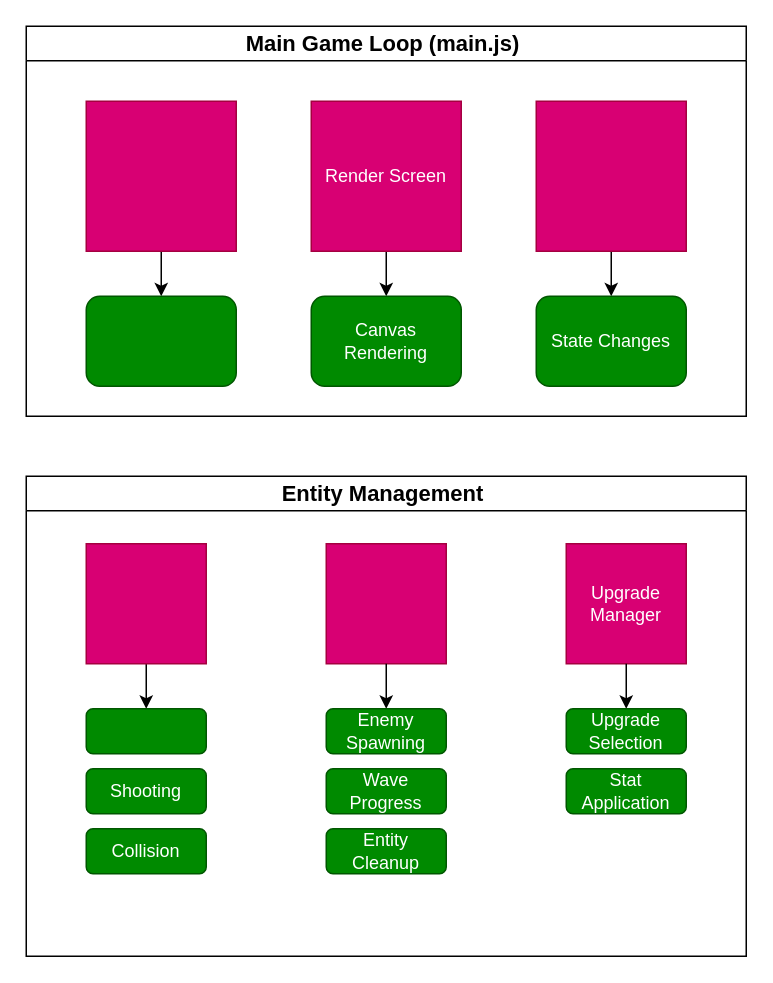
Some shapes in this 773 by 983 pixel diagram are drawn without their labels. The shapes that lost their labels are listed below. From the top down, each one's centre as x and y in pixels, then its label:
At pixel 160 175: "Input Manager".
At pixel 610 175: "Update Game Logiic".
At pixel 160 340: "Input Events".
At pixel 145 603: "Player".
At pixel 385 603: "Wave Manager".
At pixel 145 730: "Movement".
